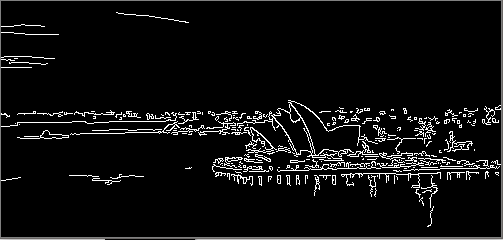opera house: (198, 87, 405, 172)
